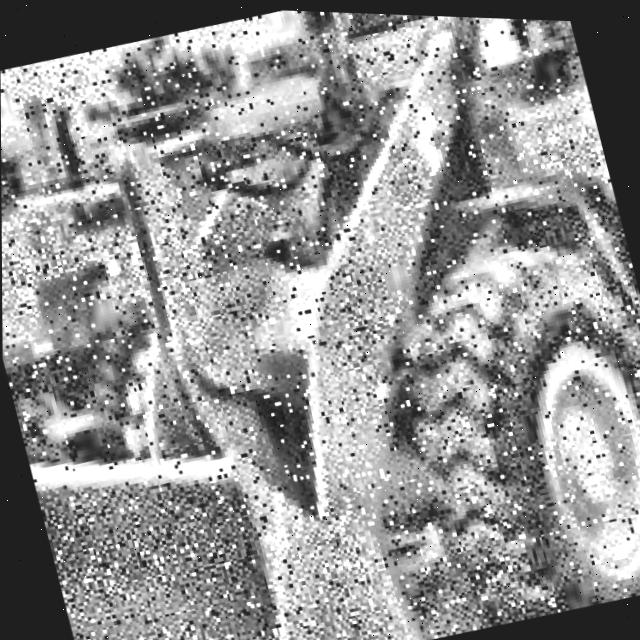buldozerpayloadergrader: (0, 0, 640, 640), (0, 37, 277, 640)
